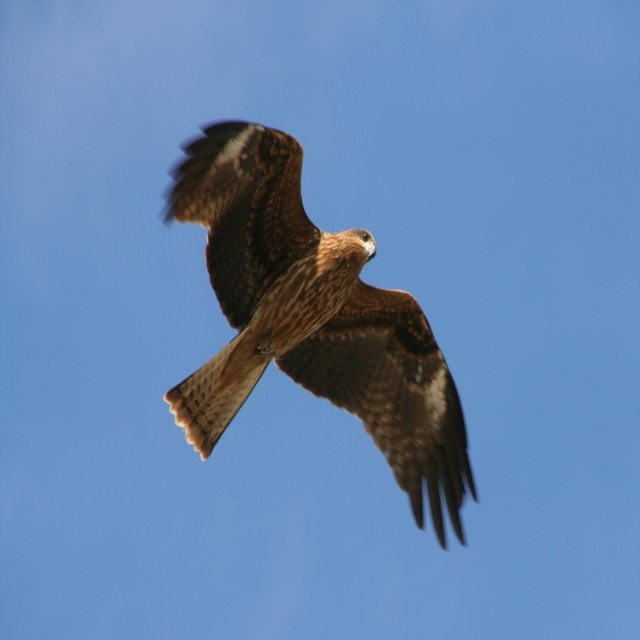Eagle: (153, 111, 479, 552)
